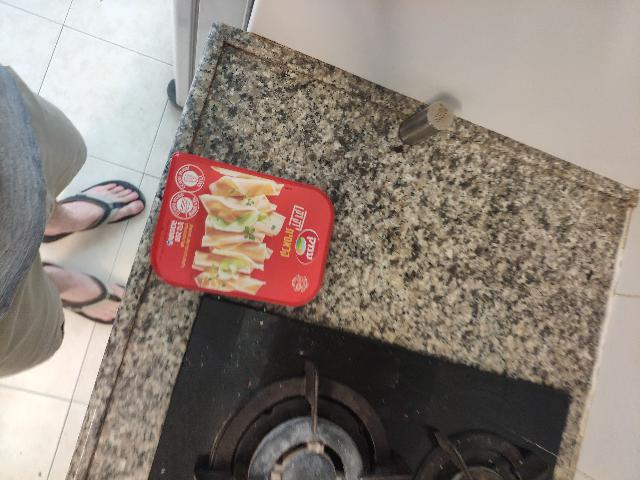cheese: (304, 178, 527, 334)
